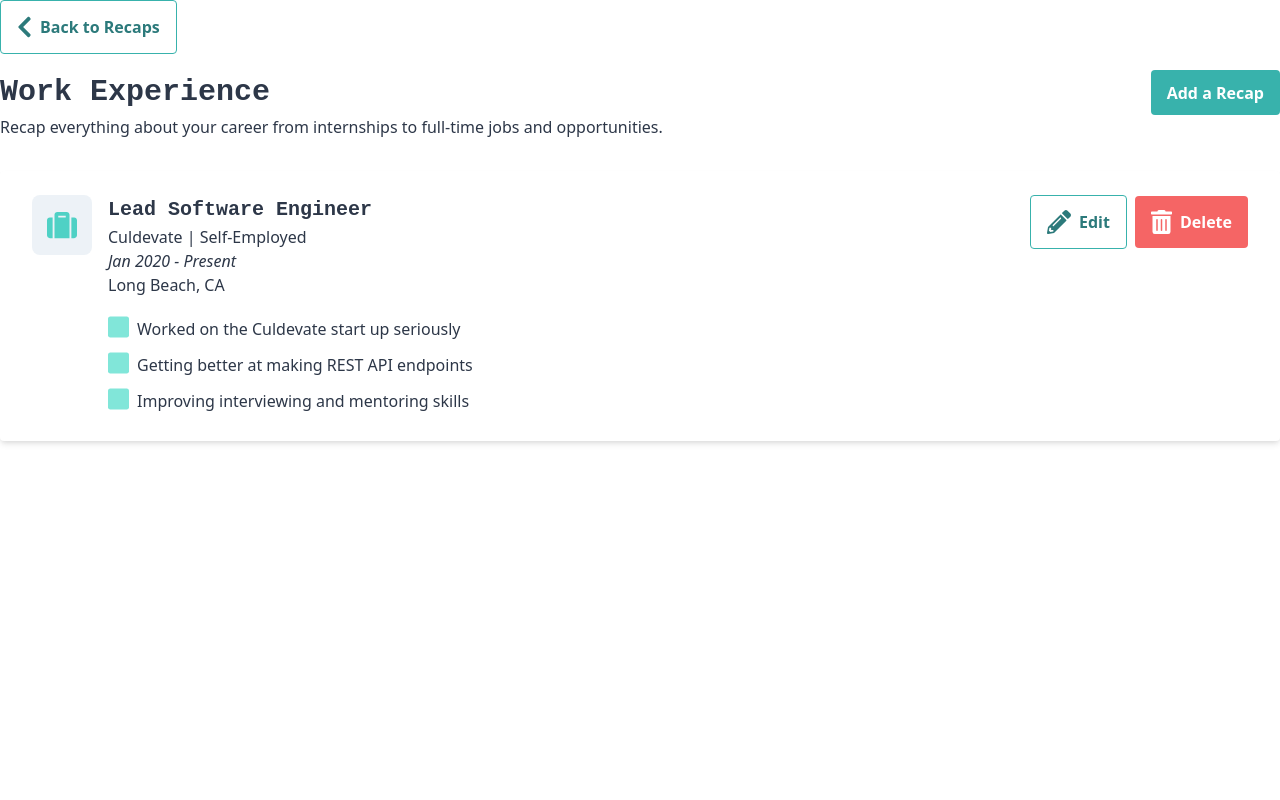
Test: <WorkExperienceLayout /> › should show the success alert after deleting a recap successfully
Click the button "Delete": (1192,222) left=1135, top=196, right=1248, bottom=248
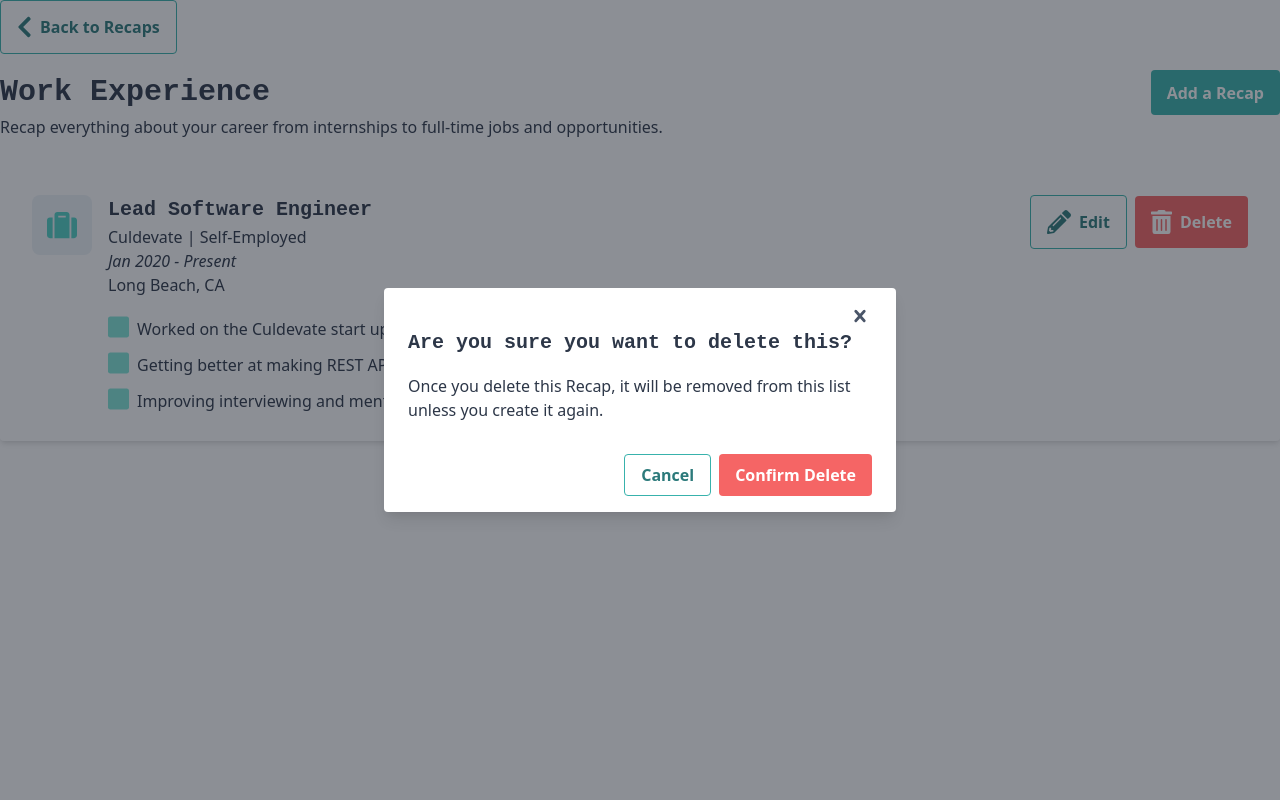
Expected: the heading "Are you sure you want to delete this?" is shown, left=408, top=328, right=872, bottom=358
Click the button "Confirm Delete": (796,475) left=719, top=454, right=872, bottom=496
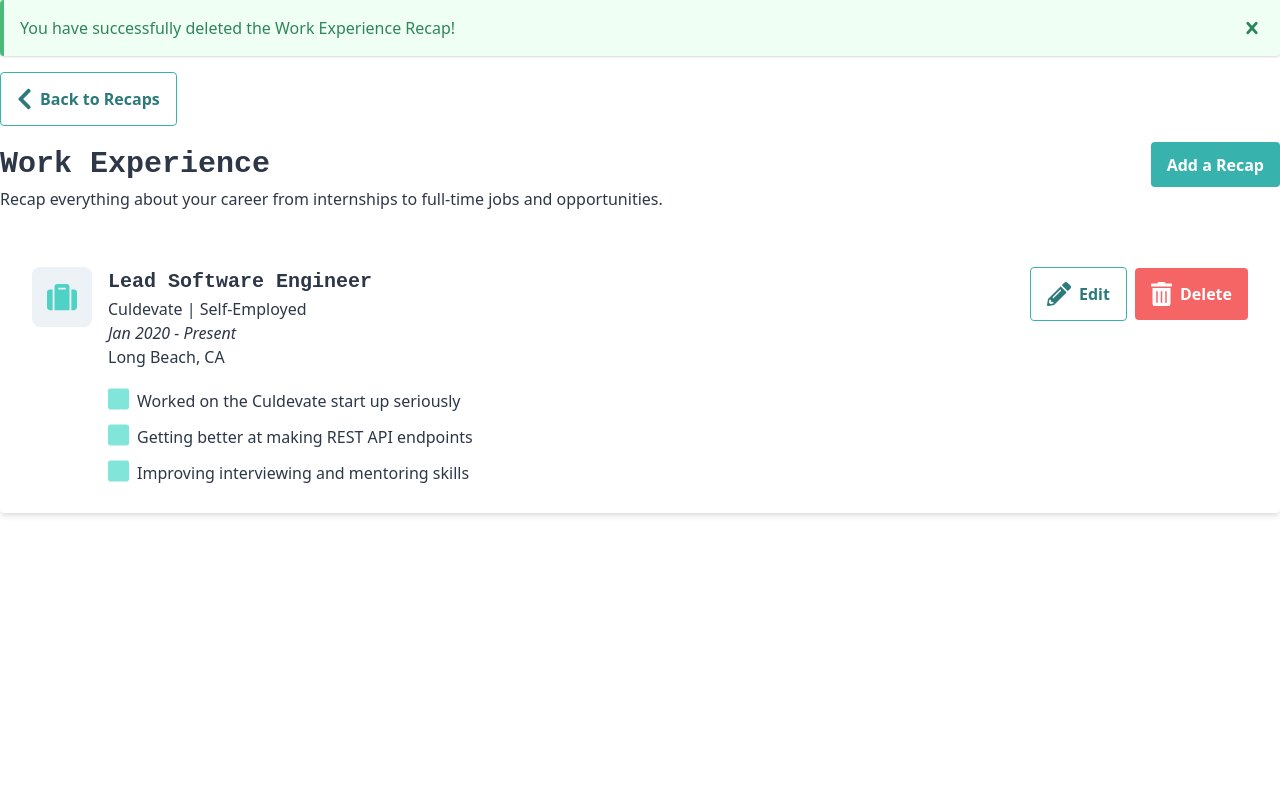
Expected: the heading "Are you sure you want to delete this?" is gone
Expected: the text "You have successfully deleted the Work Experience Recap!" is shown, left=20, top=17, right=455, bottom=39
